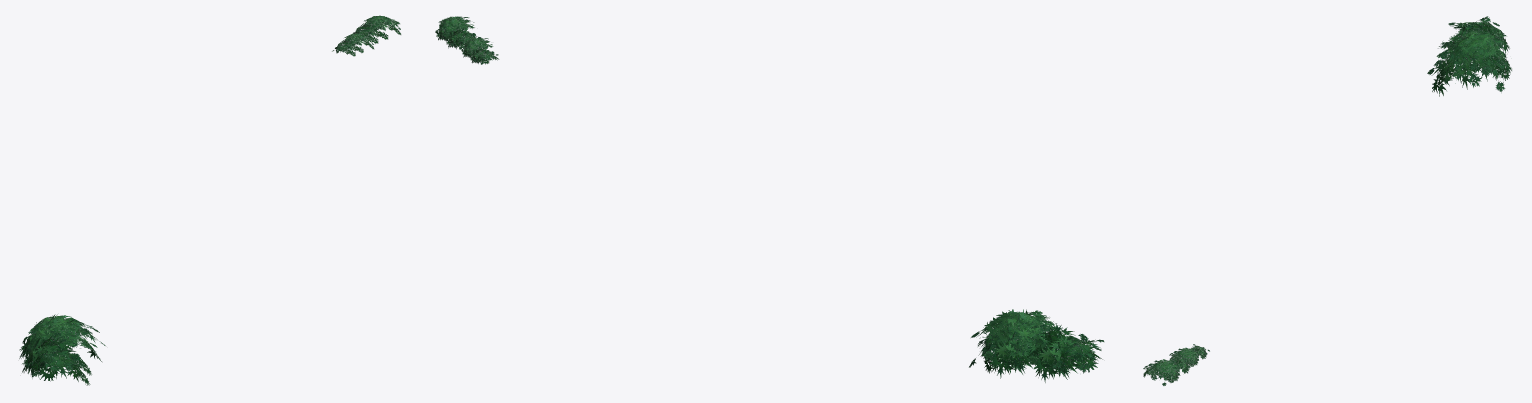
File: Area_06_32.fbx
The picture shows the model from 3 angles, left to right: view 1: azimuth 90°, elevation 25°; view 2: azimuth 150°, elevation 25°; view 3: azimuth 270°, elevation 25°; orthographic projection. The views are drawn at different scales.
Visible parts, largest first — view 1: Area_06_32; view 2: Area_06_32; view 3: Area_06_32.
Part boxes in pixels (x1,y1,x2,y2): Area_06_32: [19, 15, 401, 385]; Area_06_32: [435, 16, 1104, 382]; Area_06_32: [1143, 16, 1511, 385].
Size of the model in its own units: 7486 by 602 by 3362.
